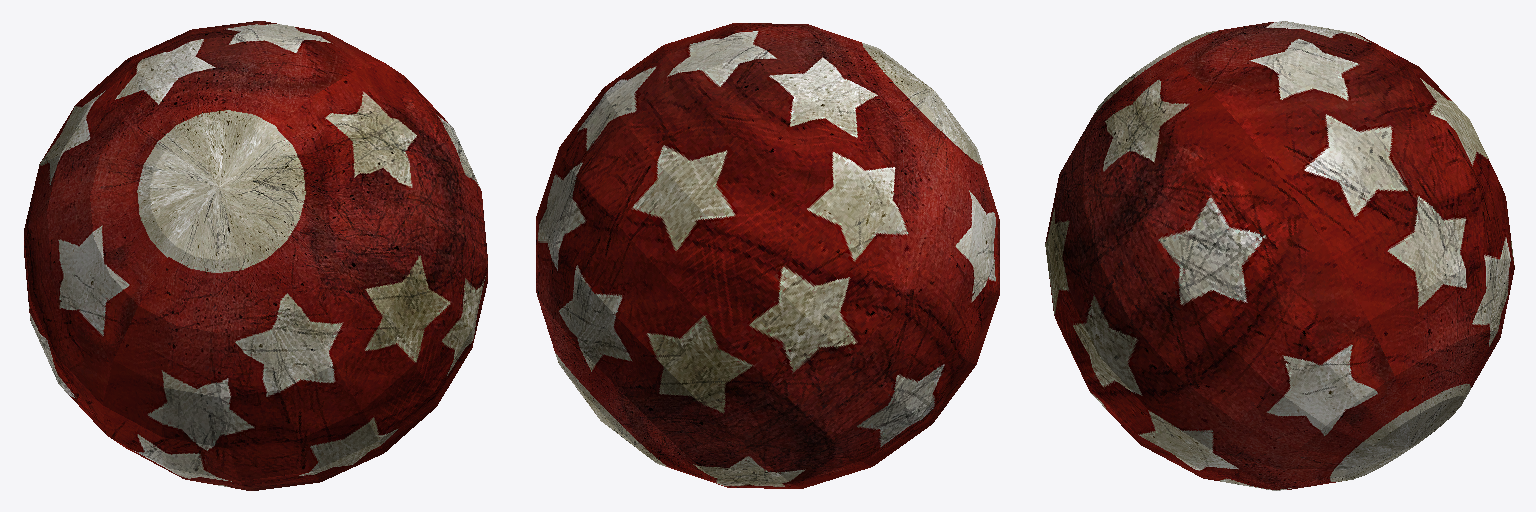
The picture shows the model from 3 angles: view 1: azimuth 30°, elevation 25°; view 2: azimuth 150°, elevation 25°; view 3: azimuth 270°, elevation 25°; orthographic projection.
Parts seen in each view (by area): view 1: Ball3_MESH; view 2: Ball3_MESH; view 3: Ball3_MESH.
Part boxes in pixels (bbox=[...]): Ball3_MESH: bbox=[24, 21, 487, 490]; Ball3_MESH: bbox=[536, 23, 999, 488]; Ball3_MESH: bbox=[1045, 21, 1514, 490].
Size of the model in its own units: 64.34 by 64.84 by 65.06.
Materials: 1 (1 with a texture image).